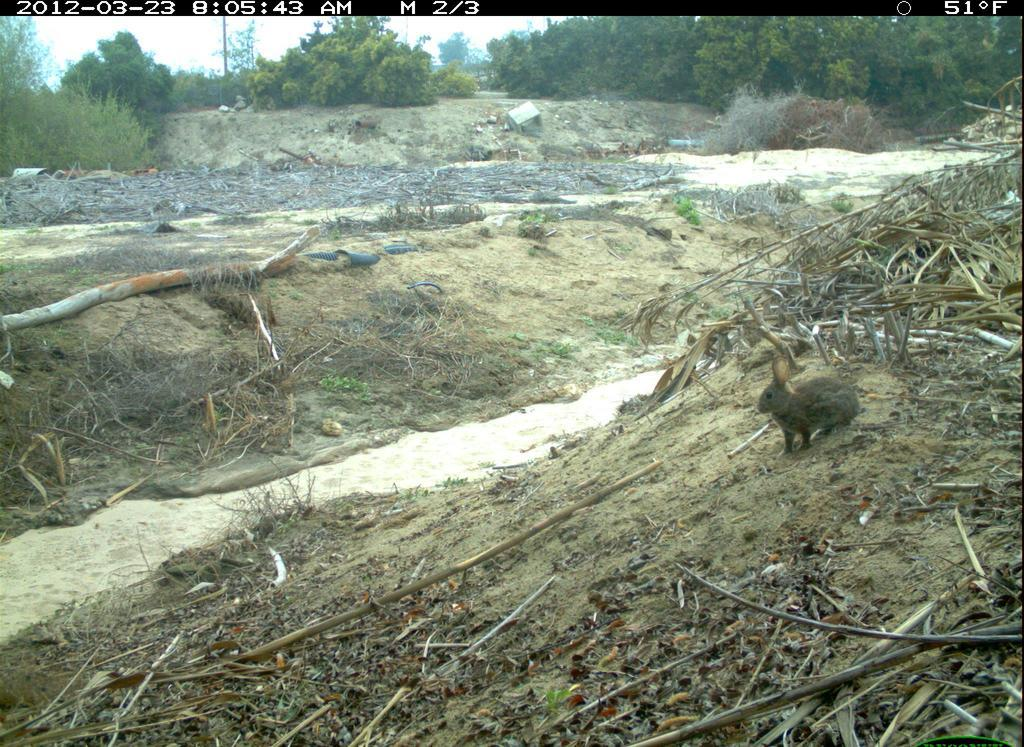rabbit: (754, 354, 866, 461)
